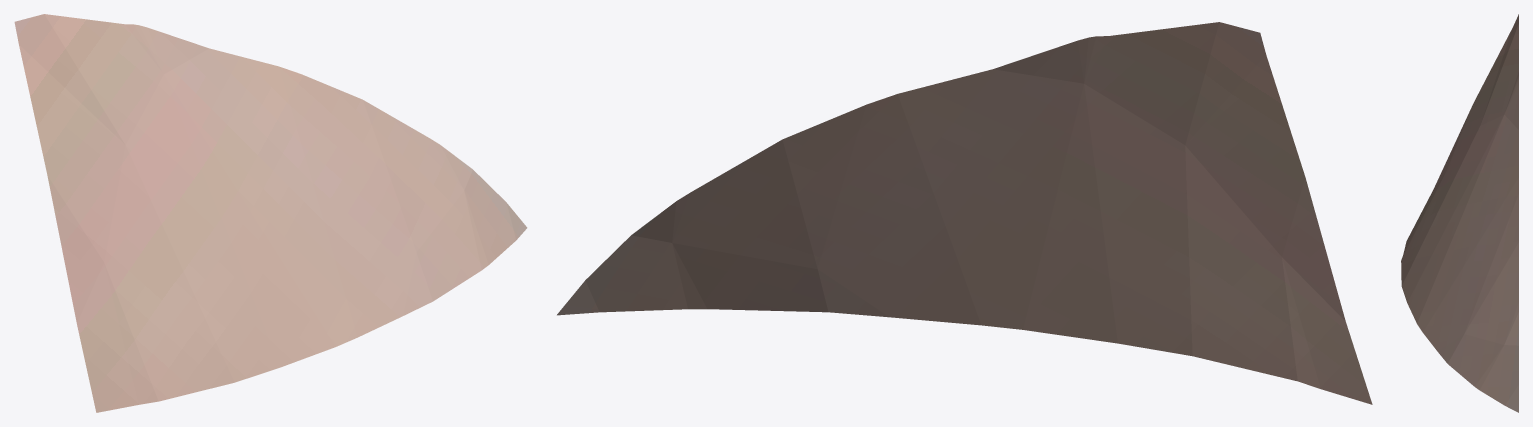
3 views of the same model, side by side, from view 1: azimuth 30°, elevation 25°; view 2: azimuth 150°, elevation 25°; view 3: azimuth 270°, elevation 25° (orthographic). The views are drawn at different scales.
Size of the model in its own units: 18.23 by 11.27 by 5.28.
1 material, 1 textured.
